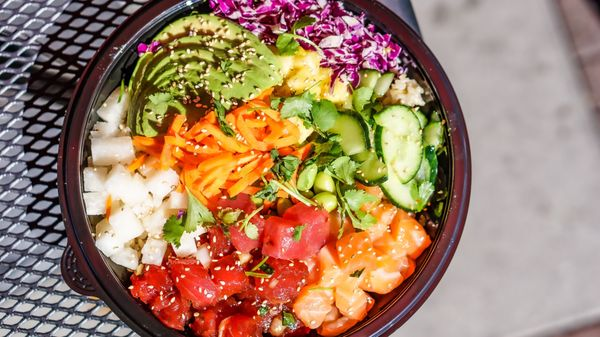sushi: (31, 2, 473, 333)
